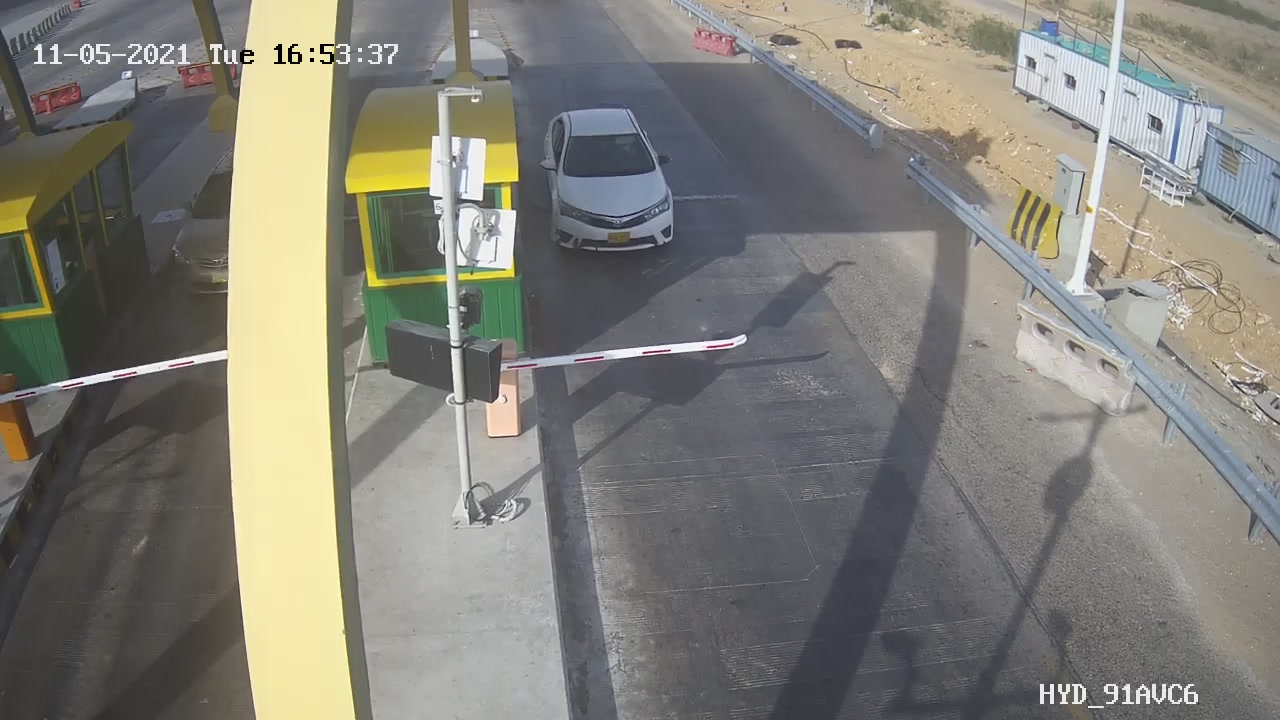F1: (529, 95, 695, 269)
